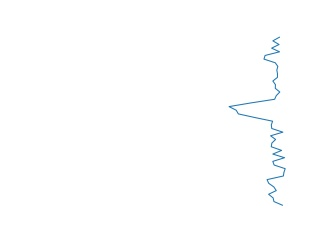interdistributaryEstuary: (226, 36, 288, 208)
